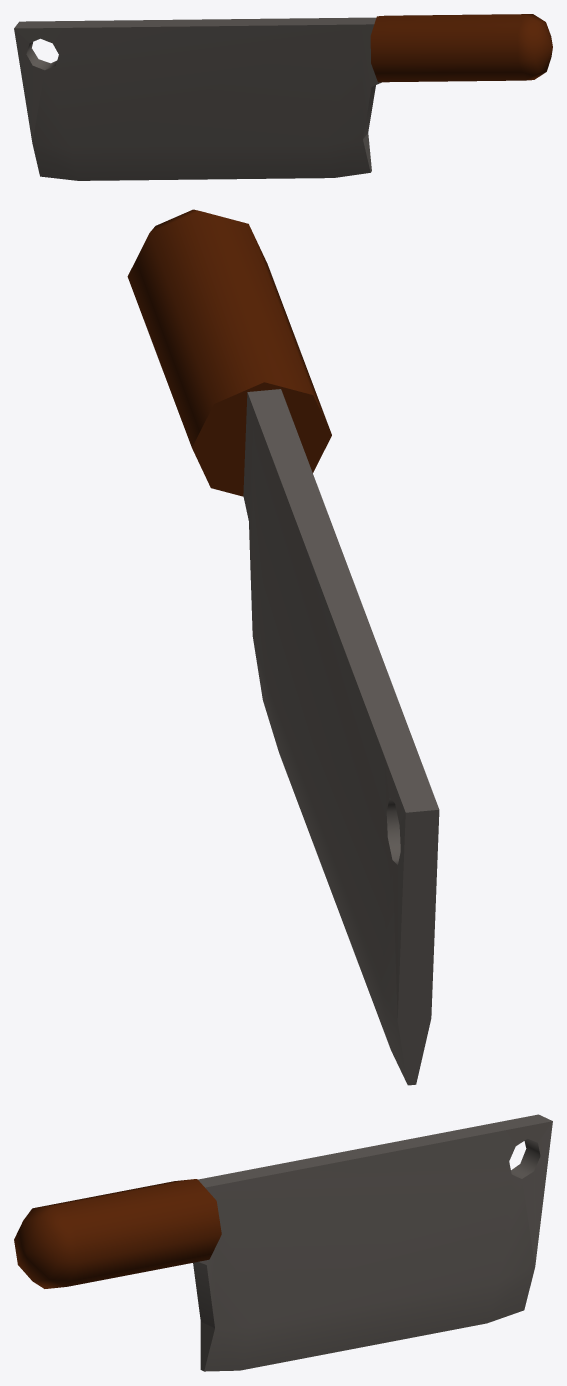
The model's file is Hat_87_02.fbx.
3 renders of one model, top to bottom at view 1: azimuth 30°, elevation 25°; view 2: azimuth 150°, elevation 25°; view 3: azimuth 270°, elevation 25°, orthographic. The views are drawn at different scales.
Visible parts, largest first — view 1: Hat_87_02; view 2: Hat_87_02; view 3: Hat_87_02.
Boxes of the visible parts, box(x1,y1,x2,y2) form: Hat_87_02: box(14, 14, 552, 180); Hat_87_02: box(127, 209, 439, 1085); Hat_87_02: box(14, 1114, 552, 1371).
Bounding box in the file's own units: 29.22 × 18.45 × 31.98.
